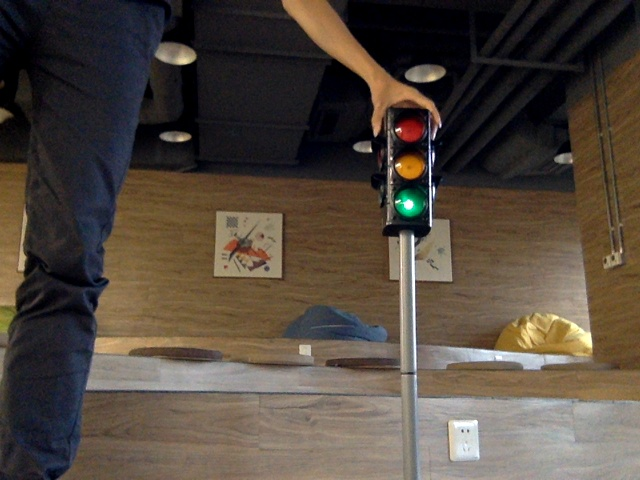green: (389, 119, 430, 219)
